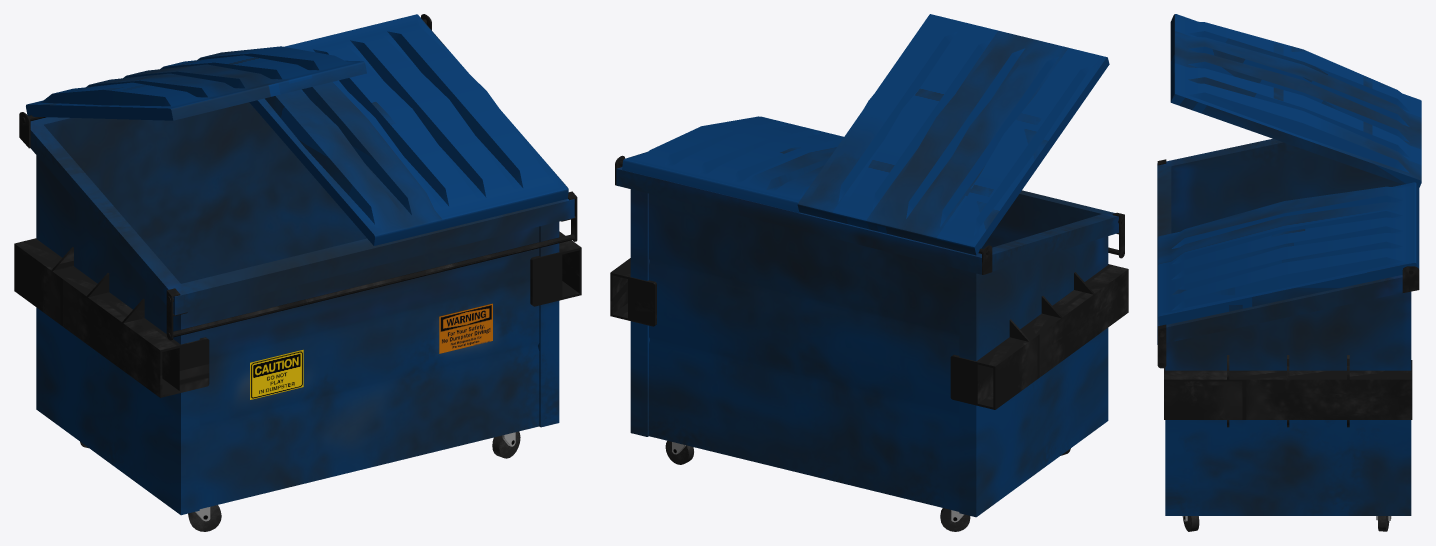
The model's file is dumpster.gltf.
The picture shows the model from 3 angles, left to right: view 1: azimuth 30°, elevation 25°; view 2: azimuth 150°, elevation 25°; view 3: azimuth 270°, elevation 25°; orthographic projection. The views are drawn at different scales.
Parts seen in each view (by area): view 1: DumpsterBin, LidRight, LidLeft, BracketLeft, Handle, BracketRight, sign2, sign1; view 2: DumpsterBin, LidLeft, LidRight, BracketLeft, BracketRight; view 3: DumpsterBin, LidRight, LidLeft, BracketRight, Handle, HingeBracket.
Boxes of the visible parts, <box> form: DumpsterBin: <box>30,102,574,515</box>; LidRight: <box>249,14,568,245</box>; LidLeft: <box>26,46,366,120</box>; BracketLeft: <box>14,238,209,397</box>; Handle: <box>166,191,577,340</box>; BracketRight: <box>530,231,581,306</box>; sign2: <box>439,303,492,353</box>; sign1: <box>250,349,303,399</box>; DumpsterBin: <box>616,167,1118,517</box>; LidLeft: <box>797,14,1109,255</box>; LidRight: <box>622,116,843,212</box>; BracketLeft: <box>950,264,1128,409</box>; BracketRight: <box>610,258,656,326</box>; DumpsterBin: <box>1157,138,1419,515</box>; LidRight: <box>1157,182,1418,325</box>; LidLeft: <box>1170,14,1421,189</box>; BracketRight: <box>1164,355,1412,427</box>; Handle: <box>1157,159,1166,368</box>; HingeBracket: <box>1402,266,1419,292</box>.
Size of the model in its own units: 2.36 by 2.34 by 1.51.
8 materials, 8 textured.
